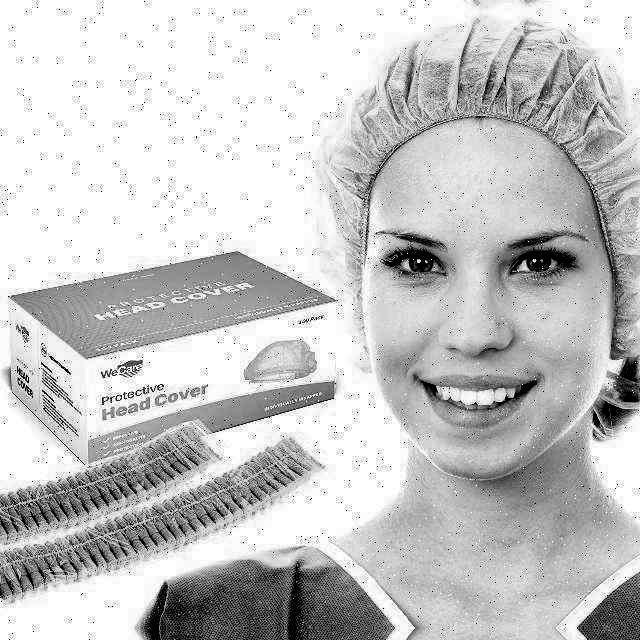gloves: (321, 31, 640, 141)
no_hairnet: (390, 279, 536, 439)
